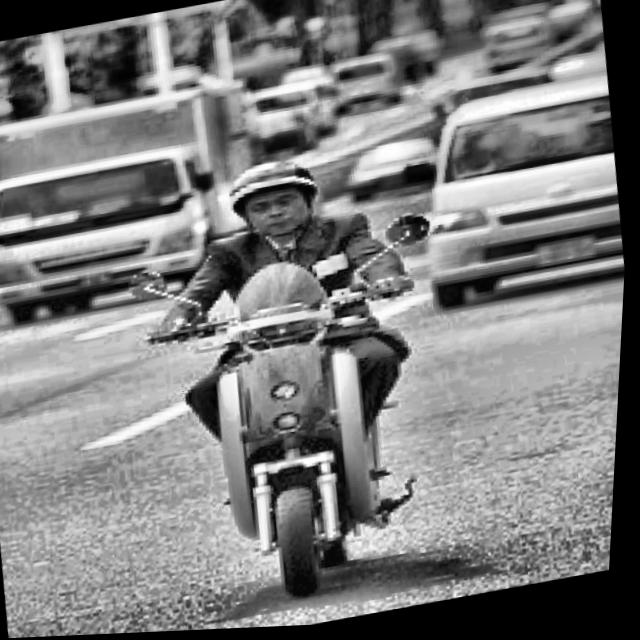motorcycle: (97, 180, 492, 617)
